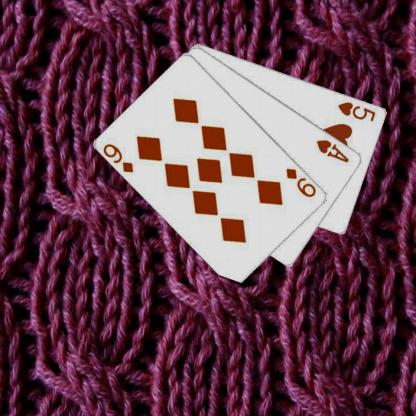5H: (336, 99, 377, 123)
9D: (101, 140, 135, 174), (284, 166, 318, 198)
AH: (314, 136, 350, 164)
